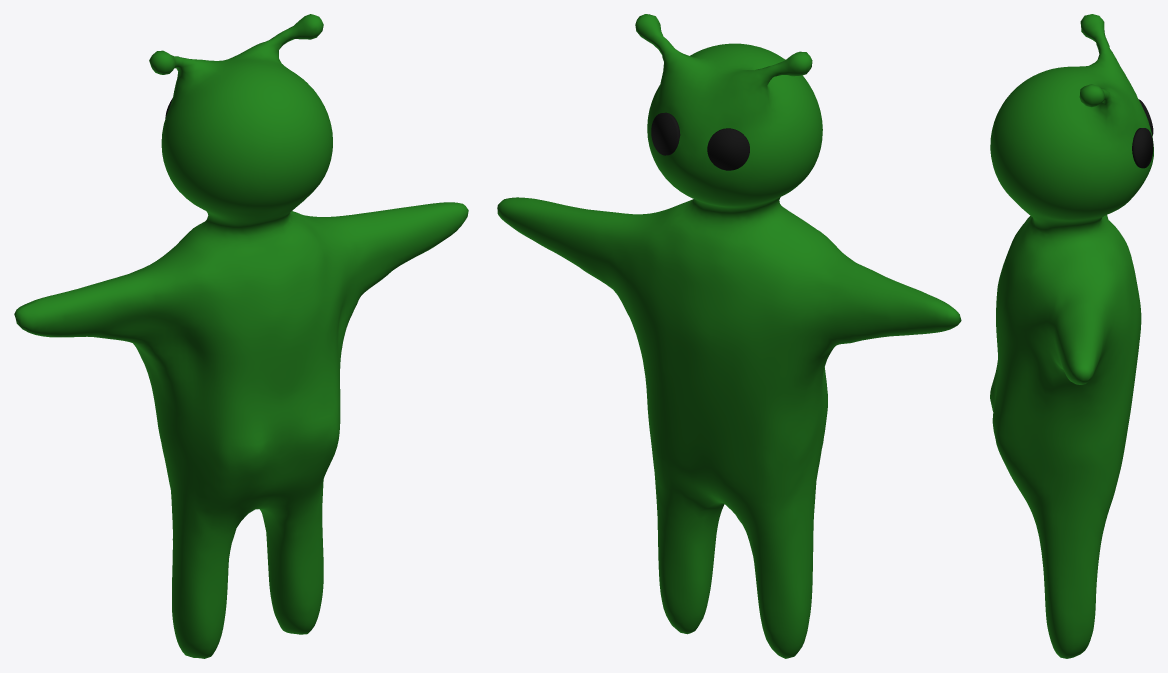
File: Alien.fbx
3 renders of one model, left to right at view 1: azimuth 30°, elevation 25°; view 2: azimuth 150°, elevation 25°; view 3: azimuth 270°, elevation 25°, orthographic. The views are drawn at different scales.
Parts seen in each view (by area): view 1: Body; view 2: Body; view 3: Body.
Boxes of the visible parts, bbox=[...] form: Body: bbox=[14, 14, 468, 658]; Body: bbox=[497, 14, 961, 658]; Body: bbox=[990, 14, 1153, 658].
Size of the model in its own units: 156 by 199 by 50.6.
